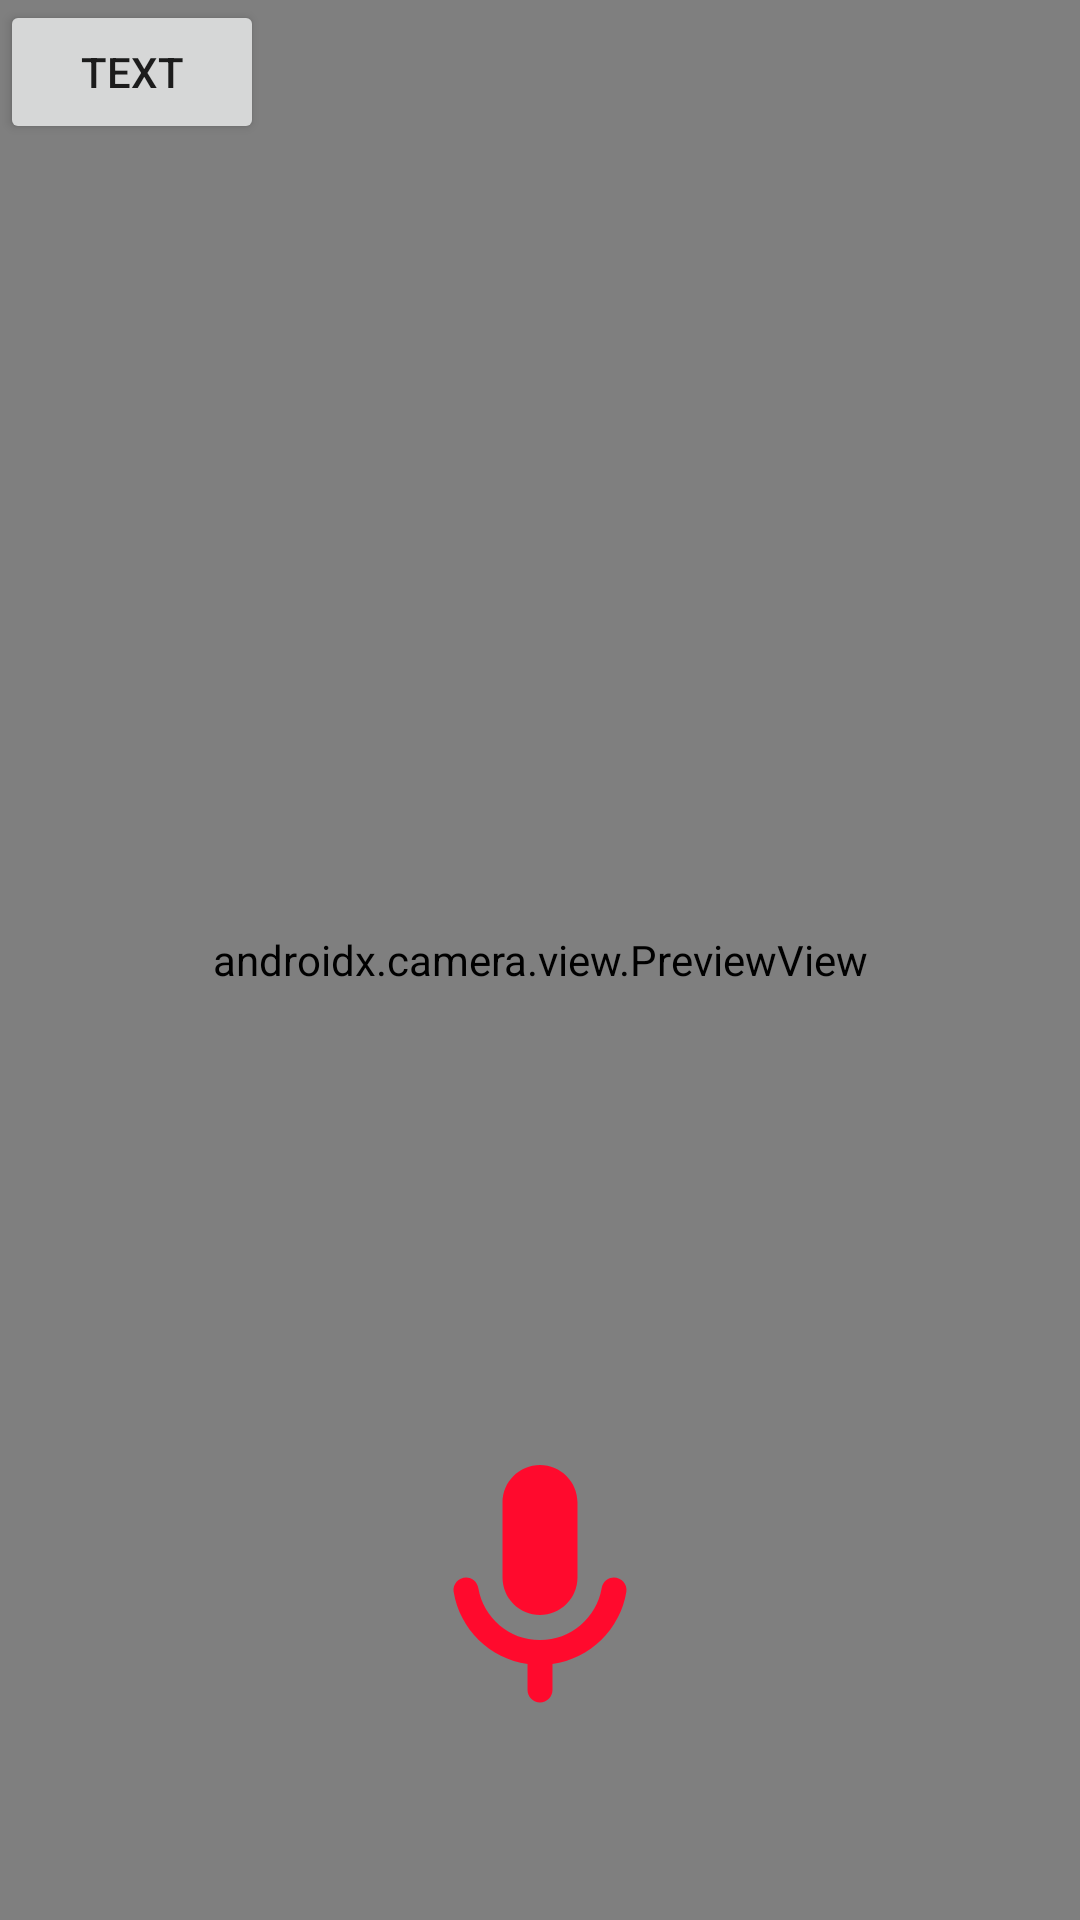

Icons on this 1080×1920 Android screen, each with its box as bbox=(x1, y1, x2, y2):
mic: bbox=(453, 1465, 627, 1703)
